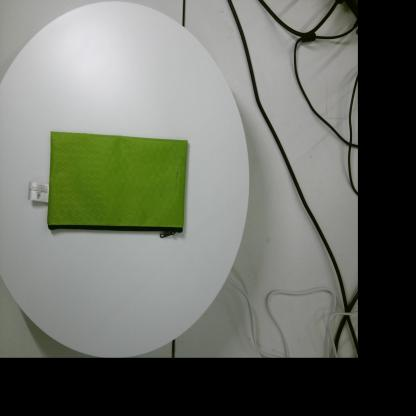Stationery: (28, 131, 188, 238)
